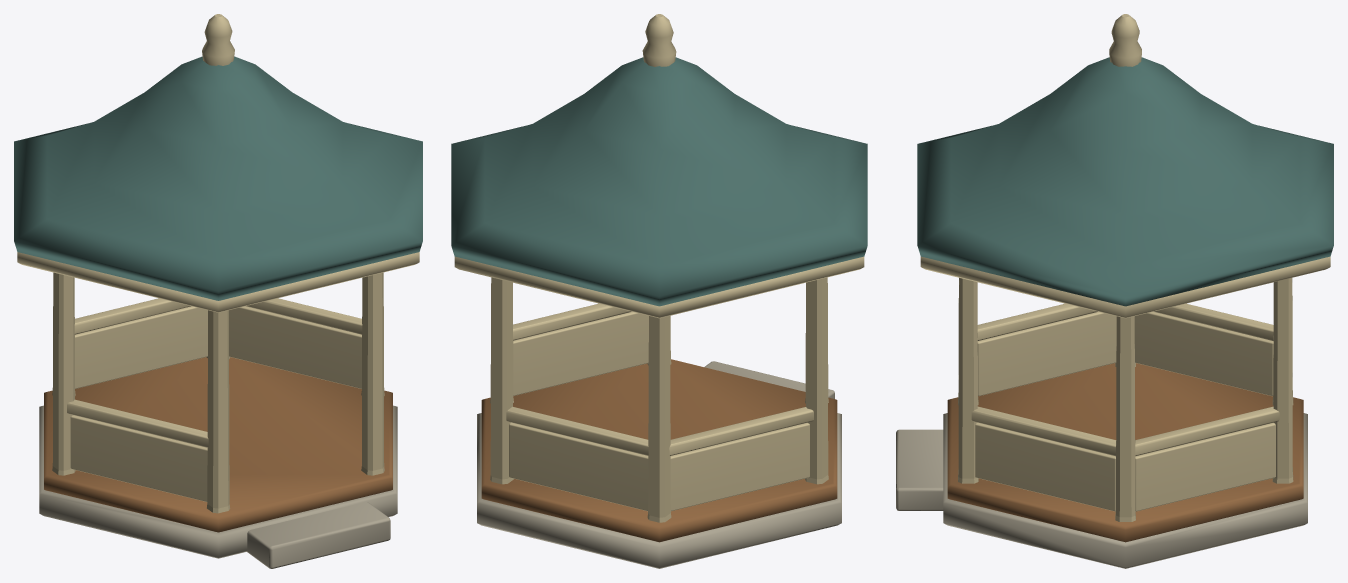
Rendered from DEC_Gazebo_A.fbx.
The picture shows the model from 3 angles, left to right: view 1: azimuth 30°, elevation 25°; view 2: azimuth 150°, elevation 25°; view 3: azimuth 270°, elevation 25°; orthographic projection.
Parts seen in each view (by area): view 1: DEC_Gazebo_A_LOD0; view 2: DEC_Gazebo_A_LOD0; view 3: DEC_Gazebo_A_LOD0.
Part boxes in pixels (x1=…): DEC_Gazebo_A_LOD0: x1=14, y1=14, x2=422, y2=568; DEC_Gazebo_A_LOD0: x1=451, y1=14, x2=867, y2=568; DEC_Gazebo_A_LOD0: x1=896, y1=14, x2=1333, y2=568.
Size of what is drawn, in the model's own units: 3.7 by 3.96 by 3.37.
